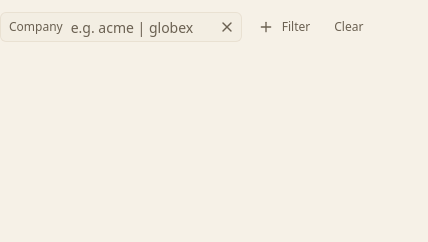
FacetBar › renders active facet chips, hides them from the add menu, and edits value
Type "acme" into the field named "Company filter" at (139, 27), box top-left (67, 15), bottom-right (211, 39)
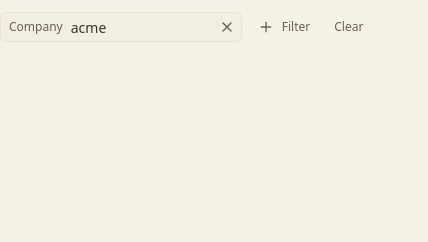
// Enter commits the value → triggers the filter.
Press Enter in the field named "Company filter", box top-left (67, 15), bottom-right (211, 39)
// Already-active facet is not offered again.
Click the button "Filter" at (284, 27), box top-left (250, 13), bottom-right (318, 41)
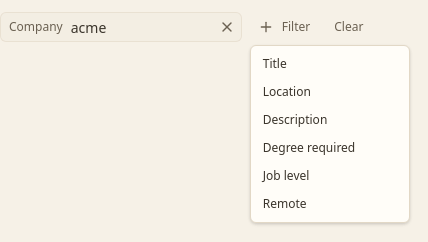
Check: the menu item "Title" is shown, box top-left (255, 50), bottom-right (405, 78)
